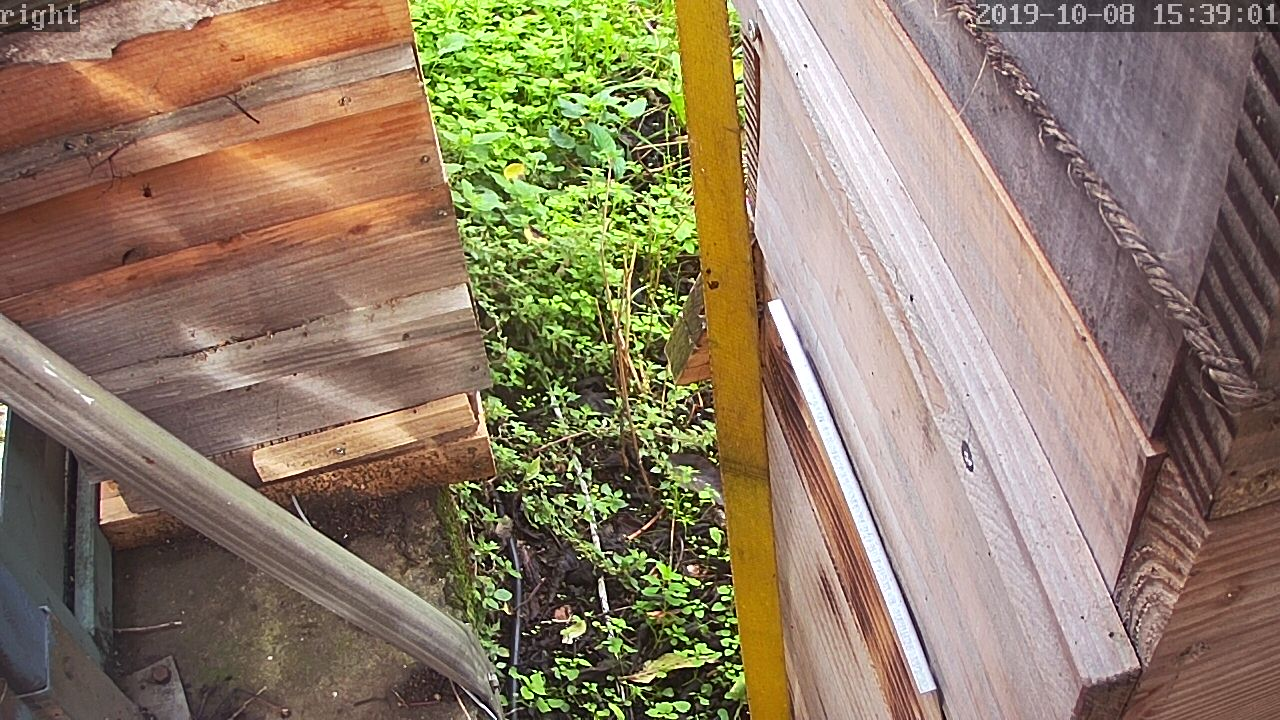hornet: (707, 546, 742, 600)
